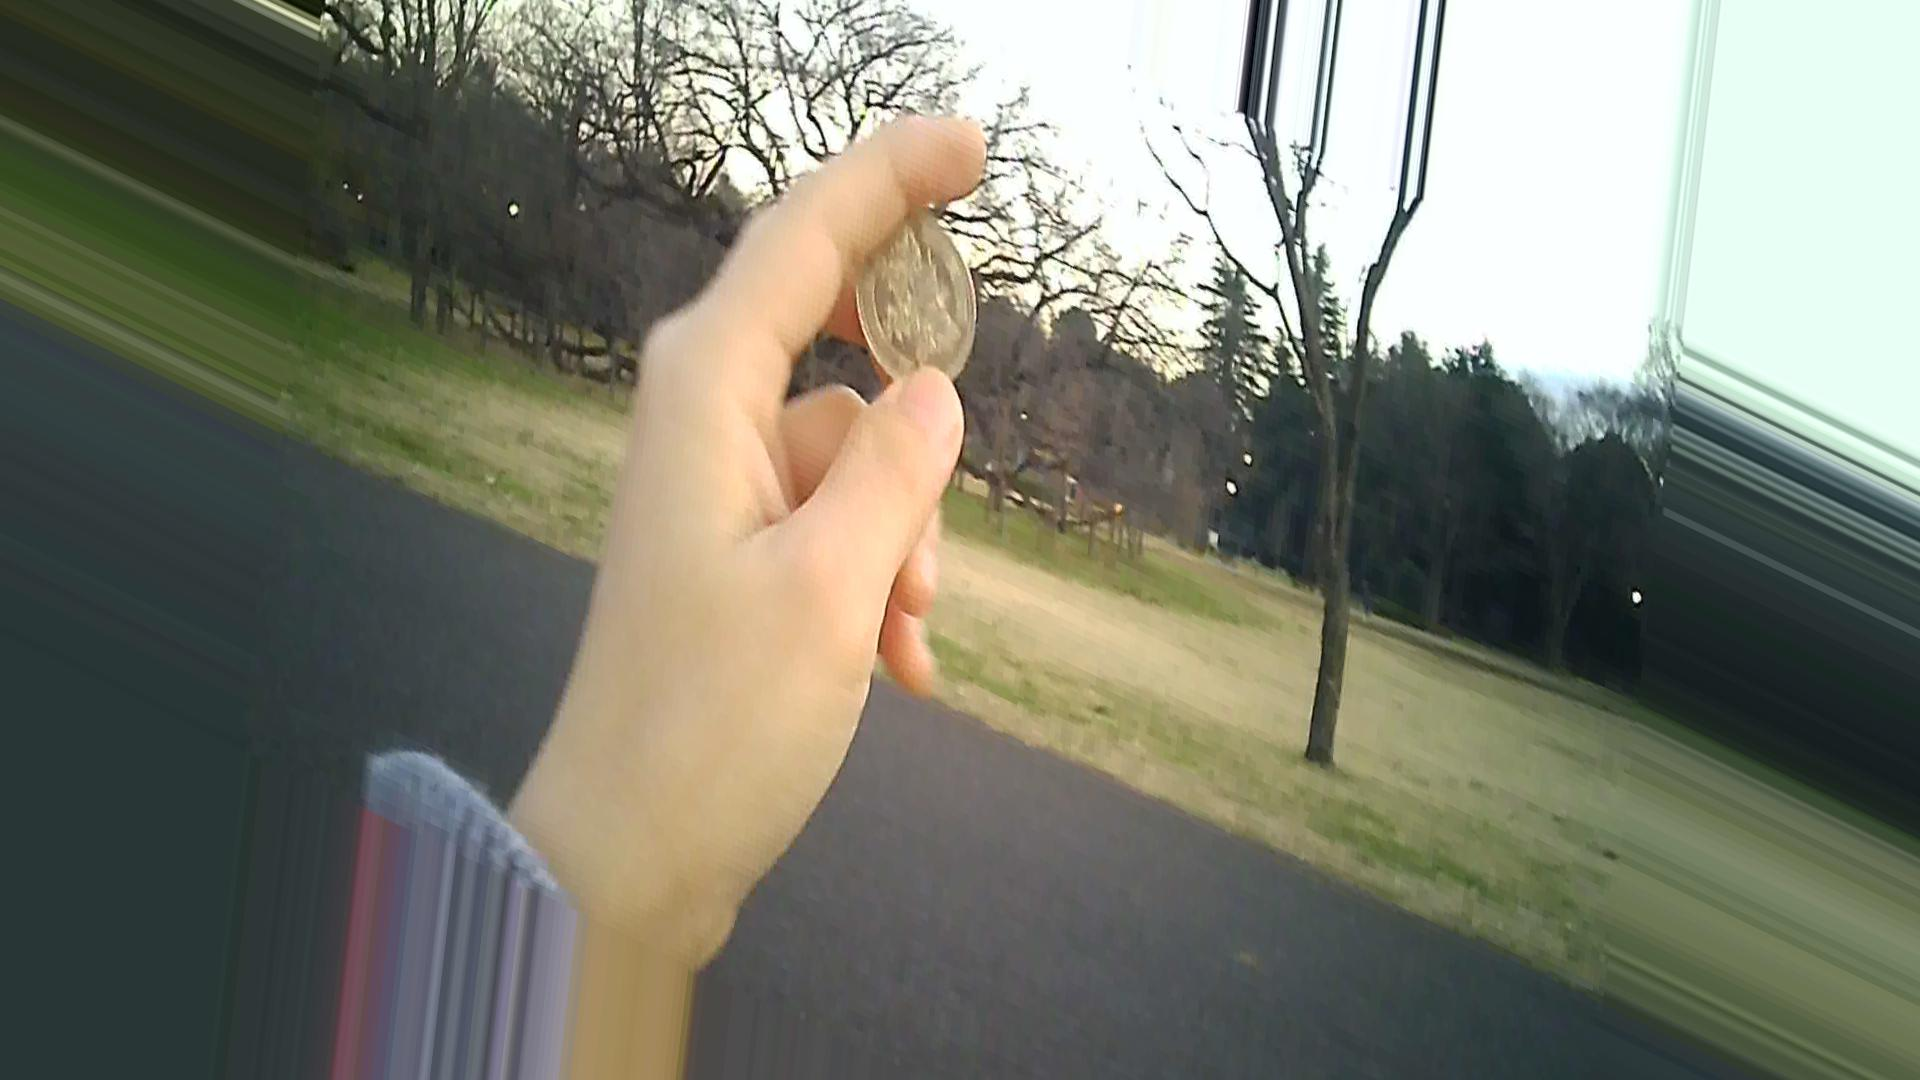500 Yen: (852, 203, 982, 382)
